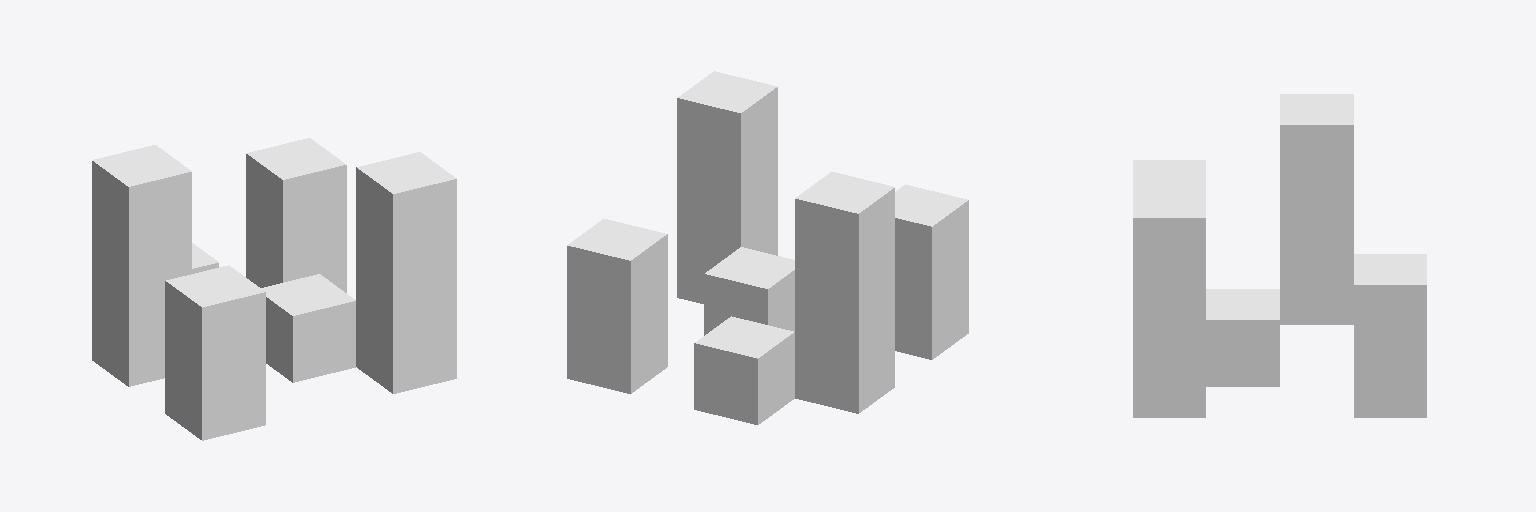
Rendered from grass.obj.
The picture shows the model from 3 angles: view 1: azimuth 30°, elevation 25°; view 2: azimuth 150°, elevation 25°; view 3: azimuth 270°, elevation 25°; orthographic projection.
Visible parts, largest first — view 1: grass; view 2: grass; view 3: grass.
Boxes of the visible parts, x1,y1,x2,y2 form: grass: [92, 138, 456, 440]; grass: [567, 71, 968, 424]; grass: [1133, 94, 1426, 417].
Bounding box in the file's own units: 4.99 × 3.74 × 4.99.